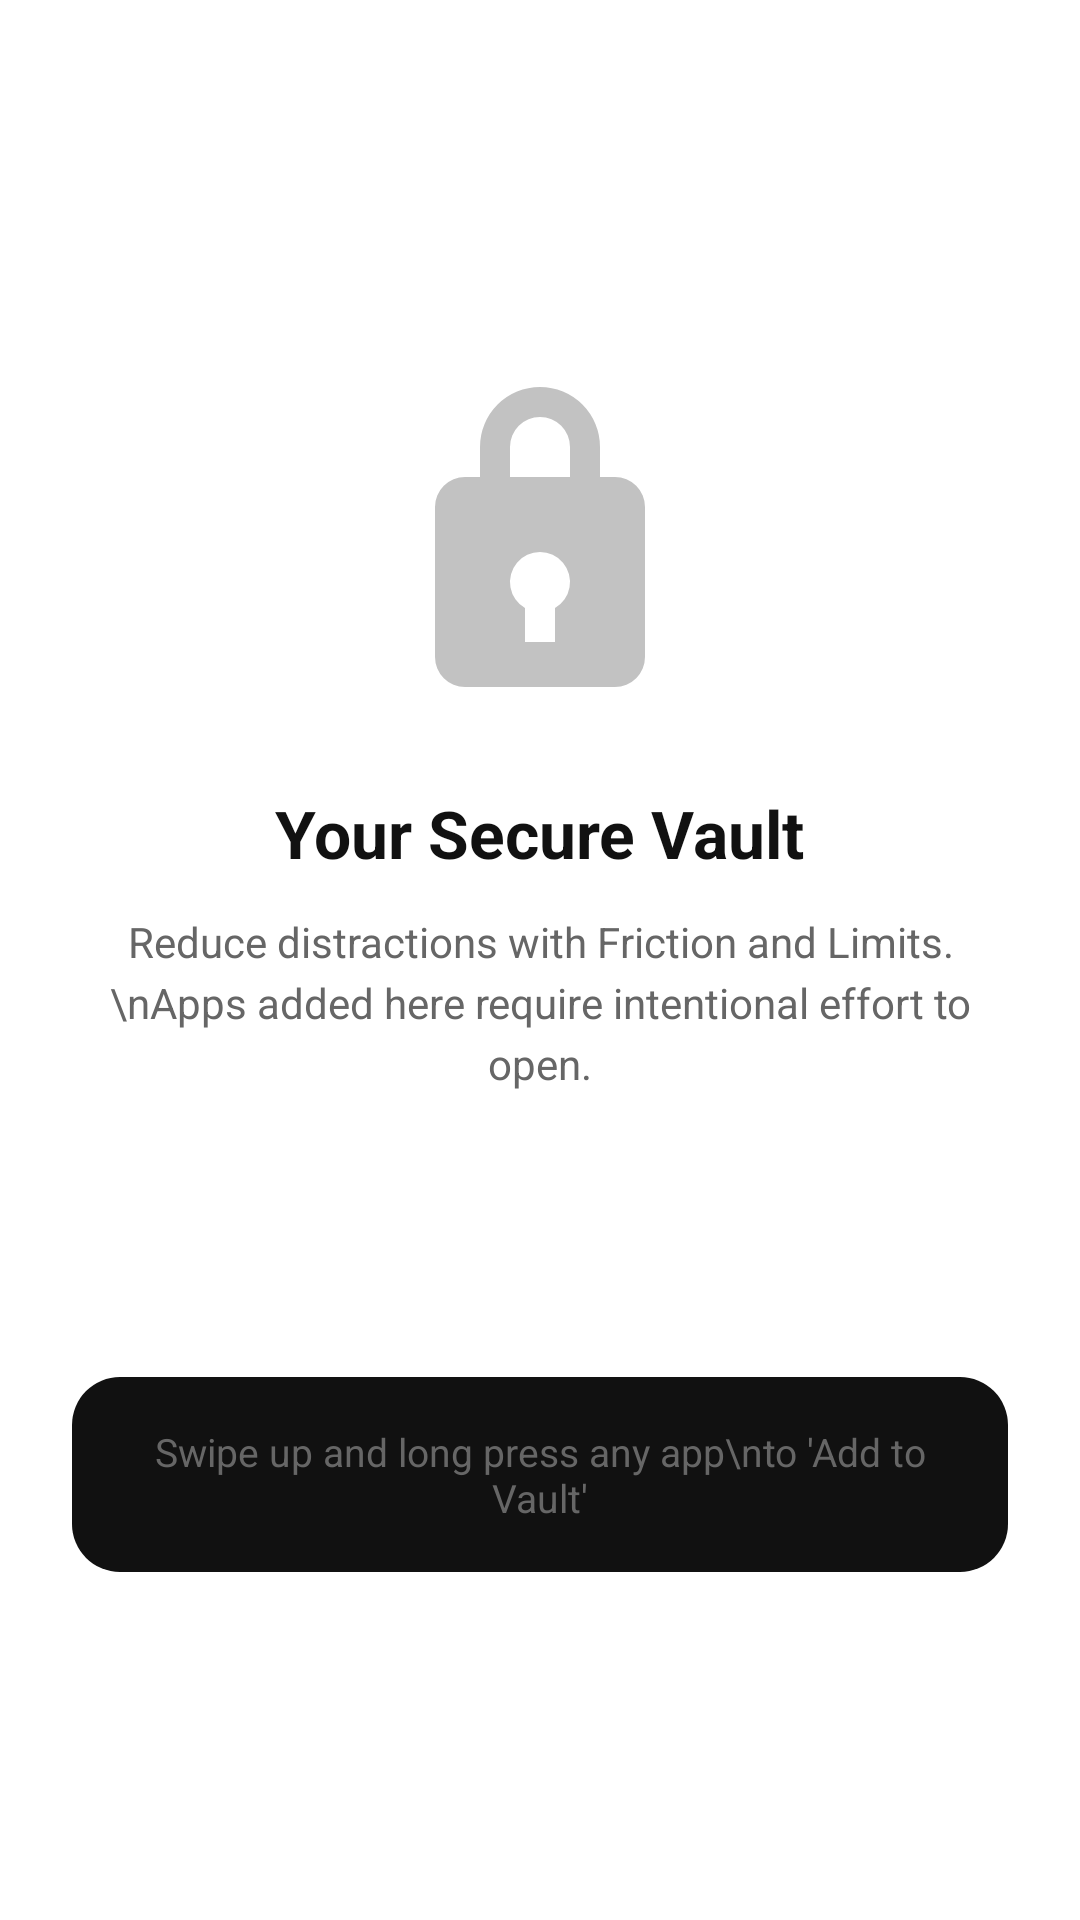

Where icons sit on this 1080px x 1920px app screen, as bbox=[x1, y1, x2, y2]:
lock: bbox=[435, 387, 645, 687]
